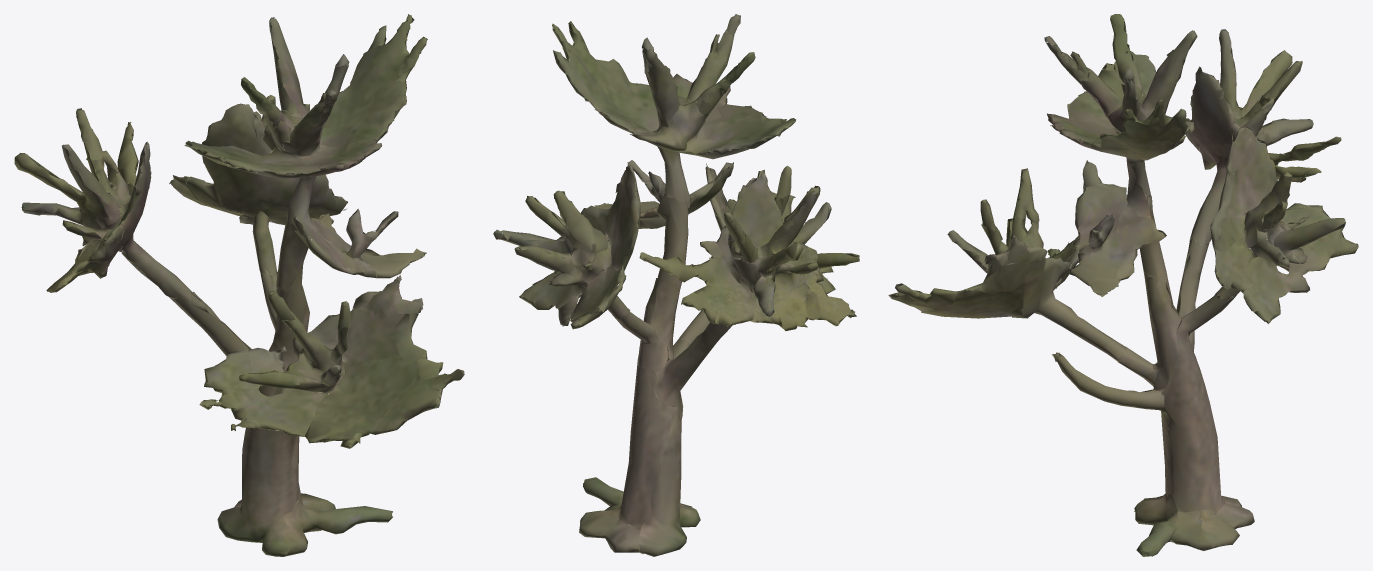
File: deadwood_01_lod0.glb
3 views of the same model, side by side, from view 1: azimuth 30°, elevation 25°; view 2: azimuth 150°, elevation 25°; view 3: azimuth 270°, elevation 25° (orthographic). The views are drawn at different scales.
Visible parts, largest first — view 1: candidate_010_lod0; view 2: candidate_010_lod0; view 3: candidate_010_lod0.
Part boxes in pixels (x1,y1,x2,y2): candidate_010_lod0: (14,14,464,556); candidate_010_lod0: (493,14,859,556); candidate_010_lod0: (888,14,1358,556).
Size of the model in its own units: 0.1303 by 0.1896 by 0.1641.
Materials: 1 (1 with a texture image).
